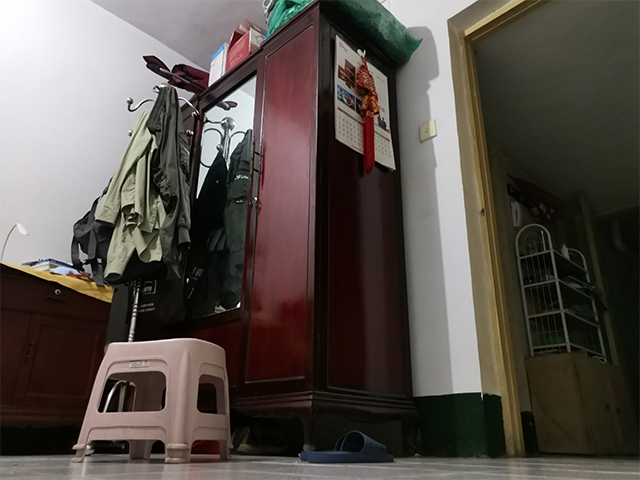cabinet: (1, 1, 425, 458), (522, 346, 639, 457)
slippers: (299, 429, 400, 465)
stool: (68, 335, 233, 465)
